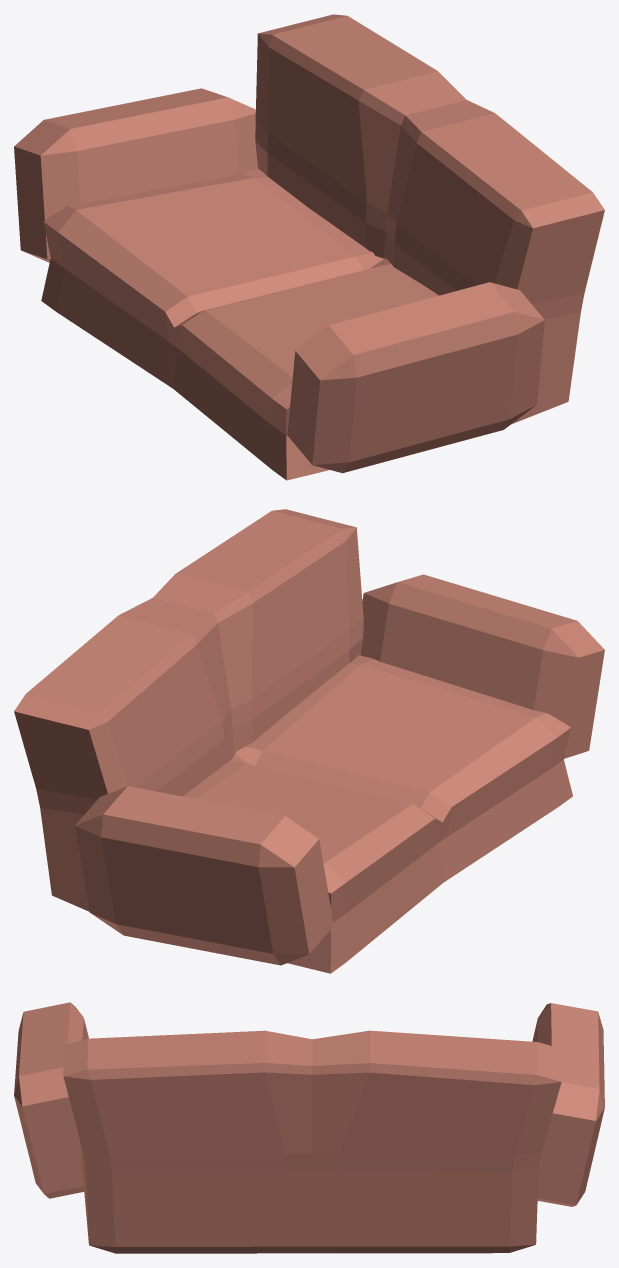
The model's file is couch_brown.fbx.
The picture shows the model from 3 angles, top to bottom: view 1: azimuth 30°, elevation 25°; view 2: azimuth 150°, elevation 25°; view 3: azimuth 270°, elevation 25°; orthographic projection. The views are drawn at different scales.
Parts seen in each view (by area): view 1: Cube.001; view 2: Cube.001; view 3: Cube.001.
Boxes of the visible parts, x1,y1,x2,y2 form: Cube.001: [14, 14, 604, 480]; Cube.001: [14, 509, 604, 973]; Cube.001: [14, 1002, 604, 1253].
Size of the model in its own units: 311 by 214 by 565.
